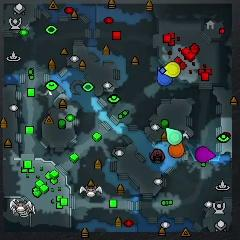p1: (157, 65, 174, 85)
p2: (166, 127, 182, 145)
p3: (196, 147, 216, 163)
p4: (162, 61, 181, 78)
p5: (169, 143, 185, 158)
